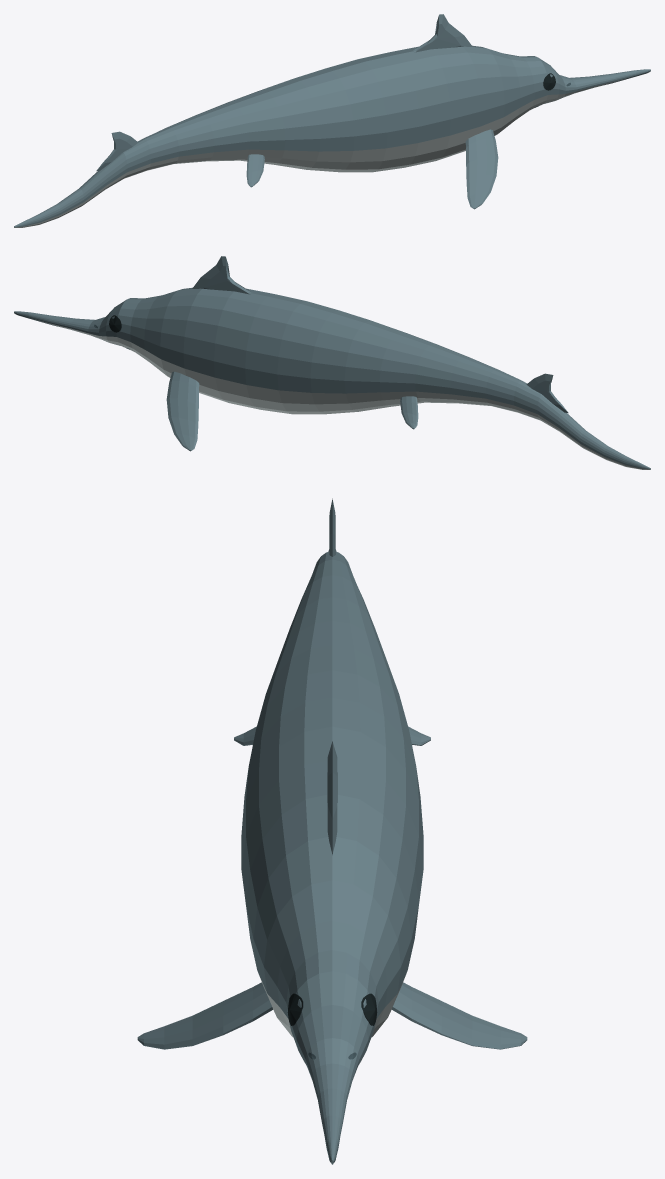
The picture shows the model from 3 angles, top to bottom: view 1: azimuth 30°, elevation 25°; view 2: azimuth 150°, elevation 25°; view 3: azimuth 270°, elevation 25°; orthographic projection. The views are drawn at different scales.
Parts seen in each view (by area): view 1: continuous_head_trunk_bent_tail, forepaddle_right, small_anterior_dorsal_fin, modest_upper_caudal_lobe, hindpaddle_right; view 2: continuous_head_trunk_bent_tail, forepaddle_left, small_anterior_dorsal_fin, modest_upper_caudal_lobe, hindpaddle_left; view 3: continuous_head_trunk_bent_tail, forepaddle_right, forepaddle_left, small_anterior_dorsal_fin.
Part boxes in pixels (x1=…): continuous_head_trunk_bent_tail: x1=14, y1=45, x2=650, y2=227; forepaddle_right: x1=465, y1=129, x2=498, y2=209; small_anterior_dorsal_fin: x1=413, y1=14, x2=472, y2=52; modest_upper_caudal_lobe: x1=96, y1=131, x2=138, y2=171; hindpaddle_right: x1=246, y1=154, x2=264, y2=187; continuous_head_trunk_bent_tail: x1=14, y1=287, x2=650, y2=469; forepaddle_left: x1=166, y1=371, x2=199, y2=451; small_anterior_dorsal_fin: x1=192, y1=256, x2=251, y2=294; modest_upper_caudal_lobe: x1=526, y1=373, x2=568, y2=413; hindpaddle_left: x1=400, y1=396, x2=418, y2=429; continuous_head_trunk_bent_tail: x1=241, y1=549, x2=423, y2=1164; forepaddle_right: x1=137, y1=982, x2=272, y2=1049; forepaddle_left: x1=392, y1=982, x2=527, y2=1049; small_anterior_dorsal_fin: x1=327, y1=741, x2=337, y2=854.
Size of the model in its own units: 0.985 by 0.2304 by 0.2613.
